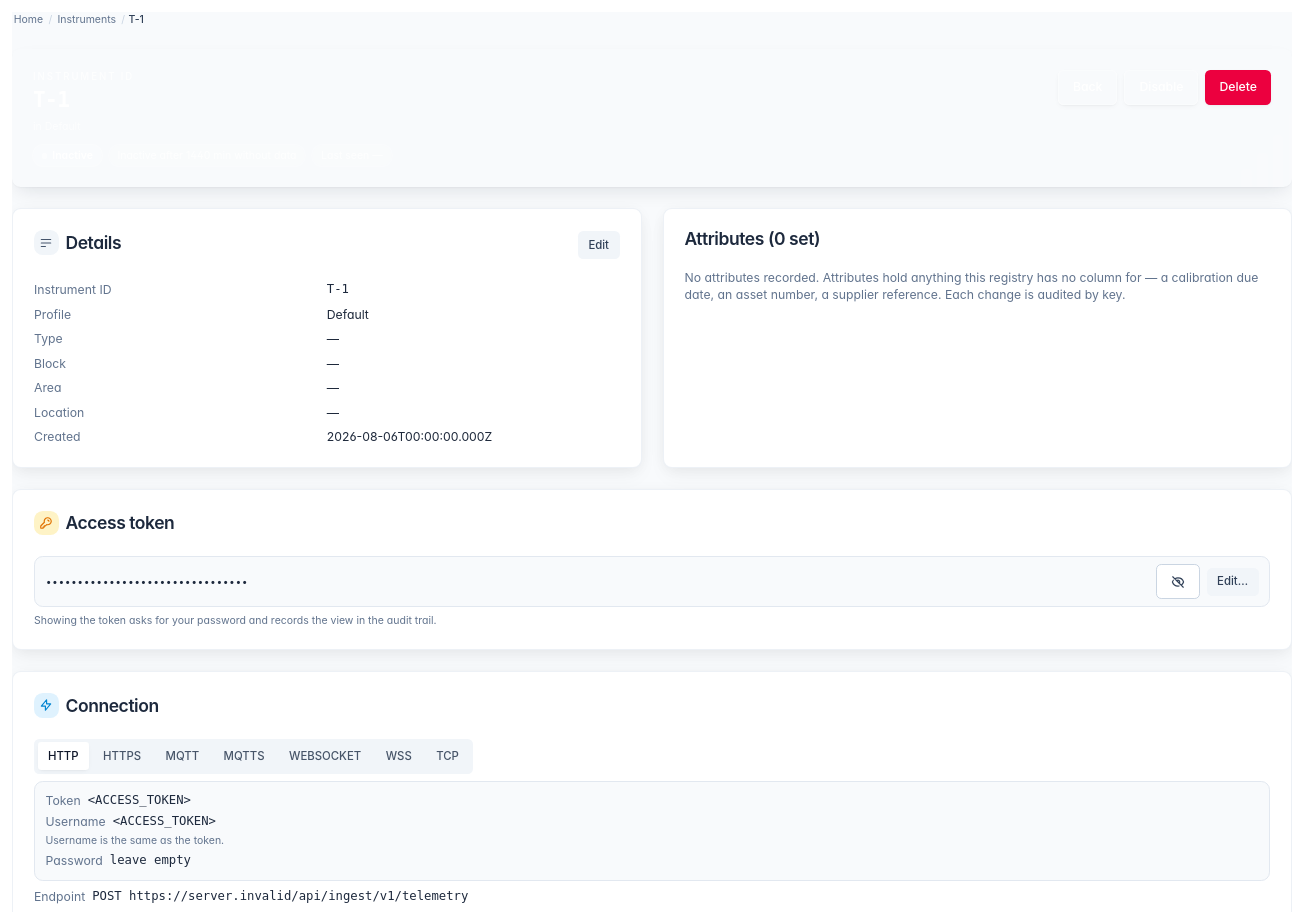
Test case: the profile is not editable until Edit is pressed › offers the picker only inside the edit form
This screenshot has width=1292, height=912.
Click the button "Edit". click: (599, 245)
box: [578,231,620,259]
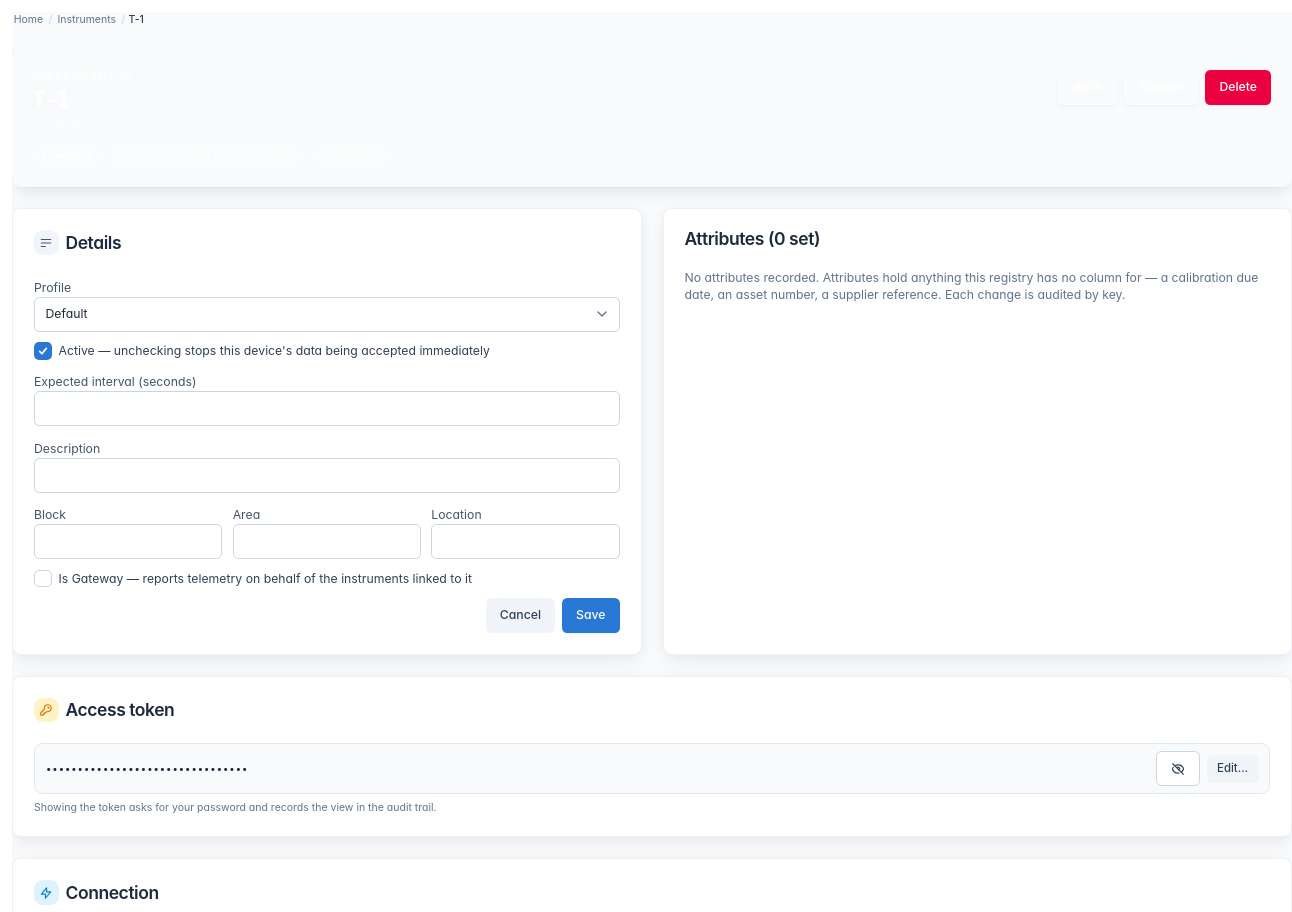
expect the dropdown labelled "Profile" is shown: met, box [34,297,620,332]
